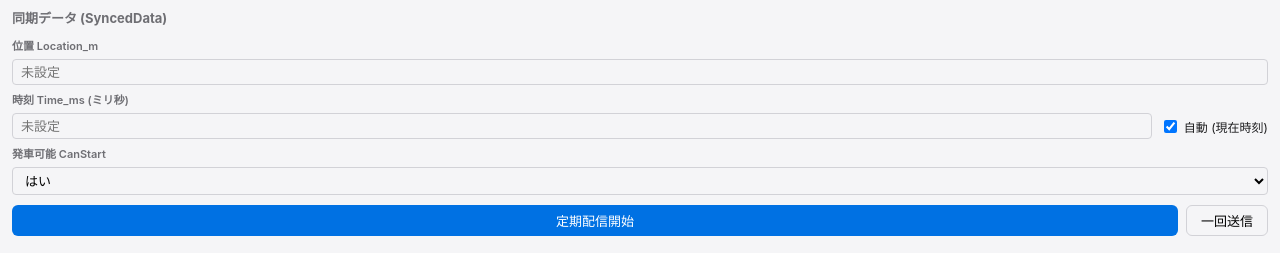
Test: SyncedDataPanel › 「定期配信開始」クリックで「配信停止」に変わる
Click the button "定期配信開始".
click(595, 220)  # box [12, 205, 1178, 236]
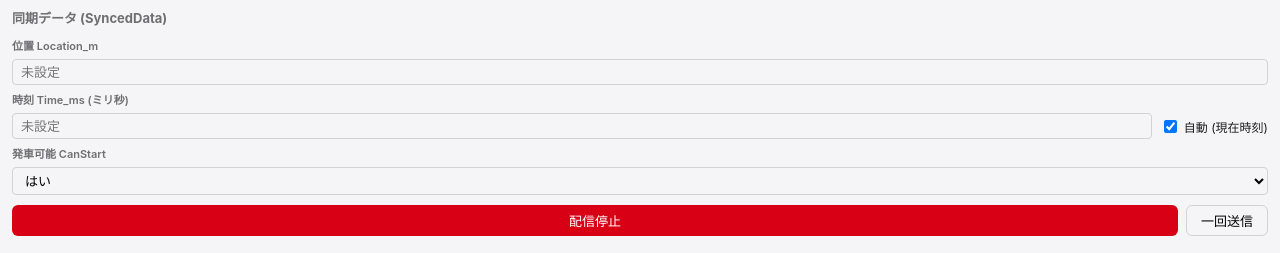
Expected: the button "配信停止" is shown, [12, 205, 1178, 236]
